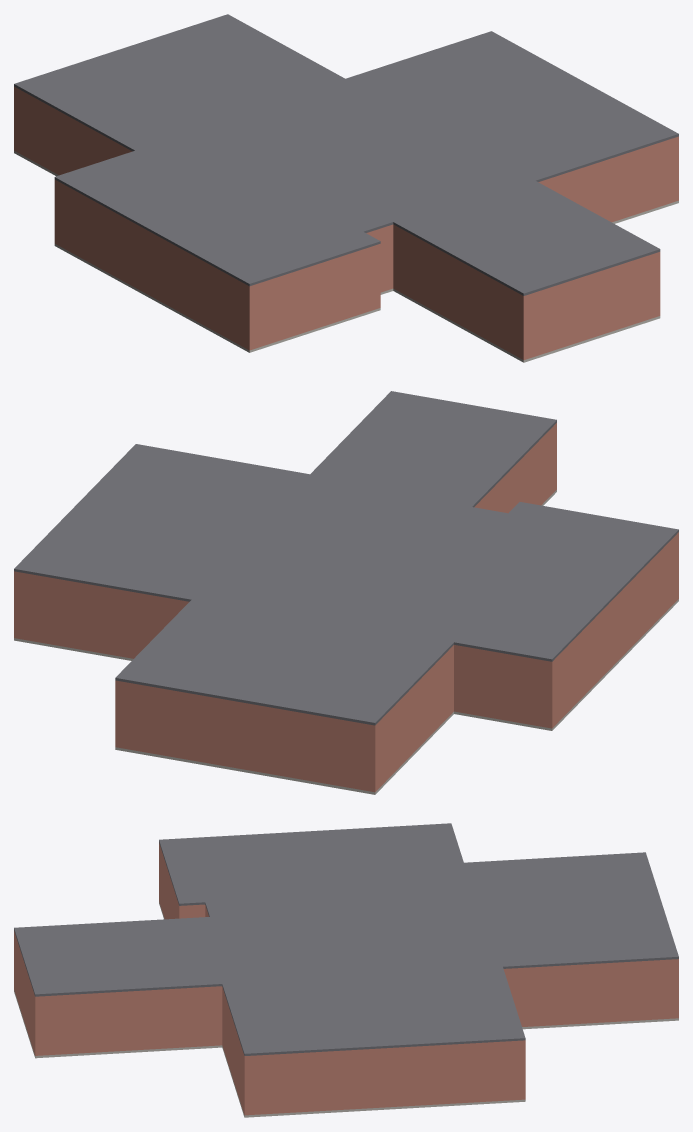
File: ymca.glb
The picture shows the model from 3 angles, top to bottom: view 1: azimuth 30°, elevation 25°; view 2: azimuth 150°, elevation 25°; view 3: azimuth 270°, elevation 25°; orthographic projection. The views are drawn at different scales.
Visible parts, largest first — view 1: ymca_roof, ymca_walls, ymca_plinth; view 2: ymca_roof, ymca_walls, ymca_plinth; view 3: ymca_roof, ymca_walls, ymca_plinth.
Part boxes in pixels (x1=…): ymca_roof: x1=14, y1=14, x2=678, y2=295; ymca_walls: x1=14, y1=86, x2=678, y2=359; ymca_plinth: x1=14, y1=151, x2=678, y2=362; ymca_roof: x1=14, y1=391, x2=678, y2=725; ymca_walls: x1=14, y1=423, x2=678, y2=792; ymca_plinth: x1=14, y1=490, x2=678, y2=794; ymca_roof: x1=14, y1=823, x2=678, y2=1055; ymca_walls: x1=14, y1=842, x2=678, y2=1115; ymca_plinth: x1=14, y1=902, x2=678, y2=1117.
Size of the model in its own units: 66.83 by 8.62 by 81.41.
